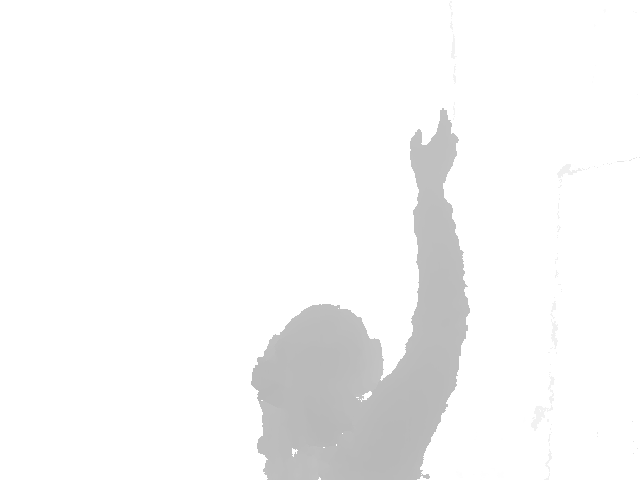hand: (408, 105, 461, 188)
head: (252, 303, 385, 432)
person: (249, 106, 472, 480)
